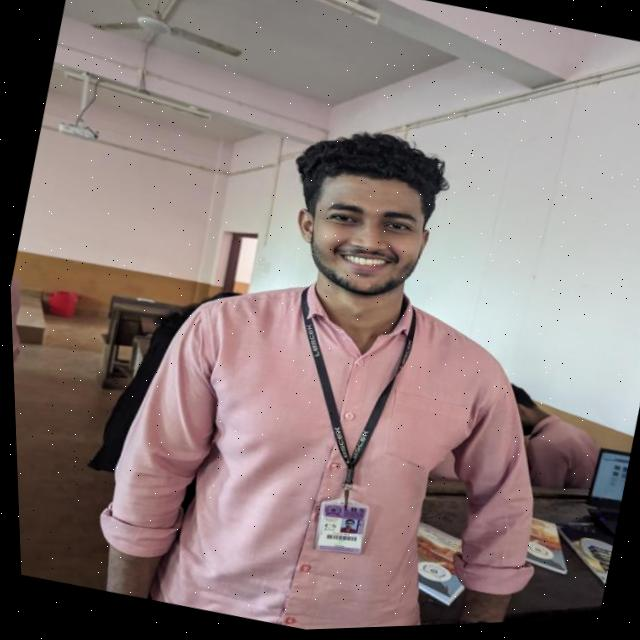id_card: (240, 293, 434, 571)
